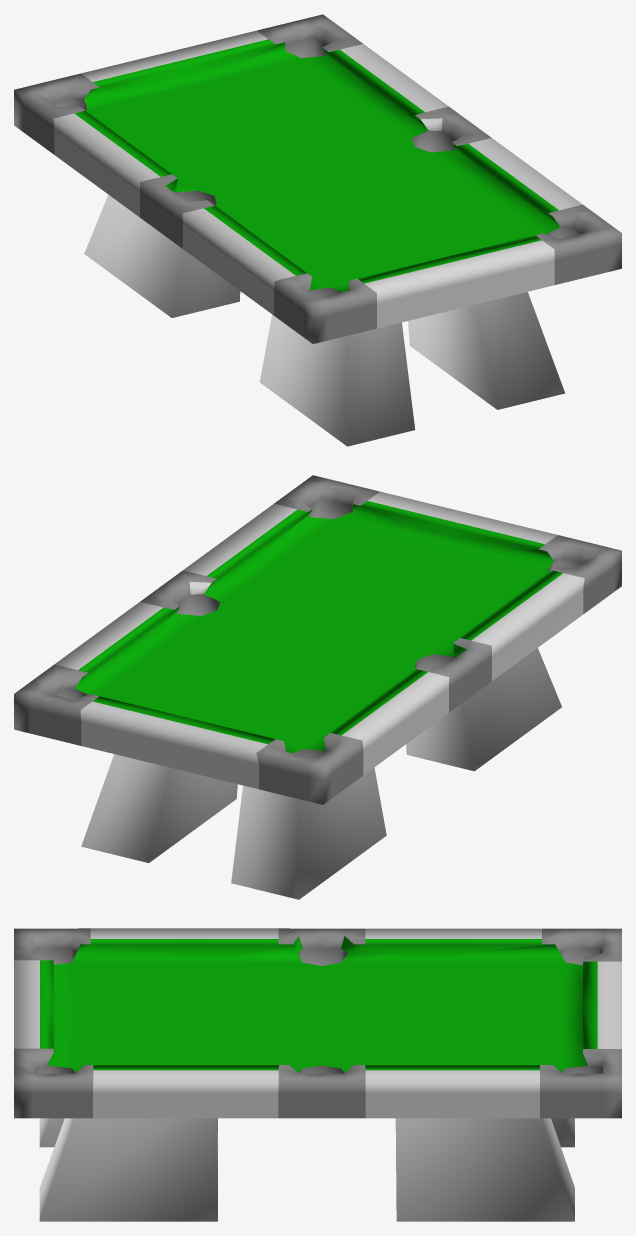
The model's file is pool_table-NEW.fbx.
The picture shows the model from 3 angles, top to bottom: view 1: azimuth 30°, elevation 25°; view 2: azimuth 150°, elevation 25°; view 3: azimuth 270°, elevation 25°; orthographic projection.
Visible parts, largest first — view 1: Plane.001; view 2: Plane.001; view 3: Plane.001.
Part boxes in pixels (box(x1,y1,x2,y2)): Plane.001: box(14, 14, 621, 446); Plane.001: box(14, 475, 621, 899); Plane.001: box(14, 928, 621, 1221).
Bounding box in the file's own units: 294 × 144 × 492.
